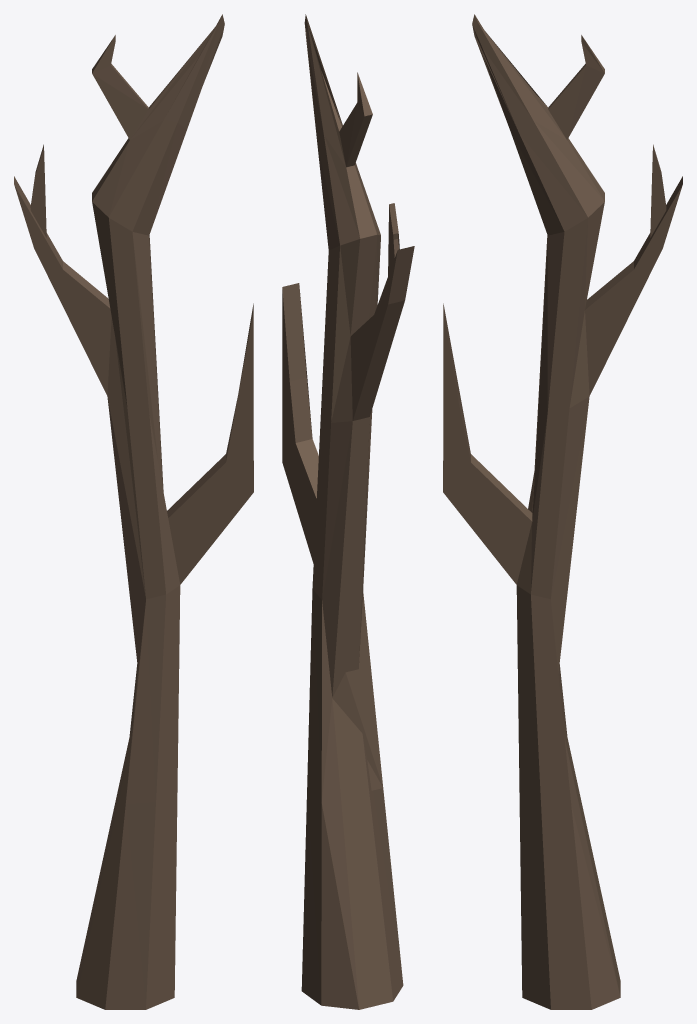
The model's file is stick.fbx.
3 views of the same model, side by side, from view 1: azimuth 90°, elevation 25°; view 2: azimuth 210°, elevation 25°; view 3: azimuth 270°, elevation 25° (orthographic). The views are drawn at different scales.
Parts seen in each view (by area): view 1: cylinder; view 2: cylinder; view 3: cylinder.
Part boxes in pixels (left/top/right/bottom): cylinder: left=14, top=14, right=253, bottom=1009; cylinder: left=282, top=14, right=414, bottom=1009; cylinder: left=443, top=14, right=682, bottom=1009.
Bounding box in the file's own units: 6.25 × 68.43 × 15.24.
Materials: 1 (1 with a texture image).
